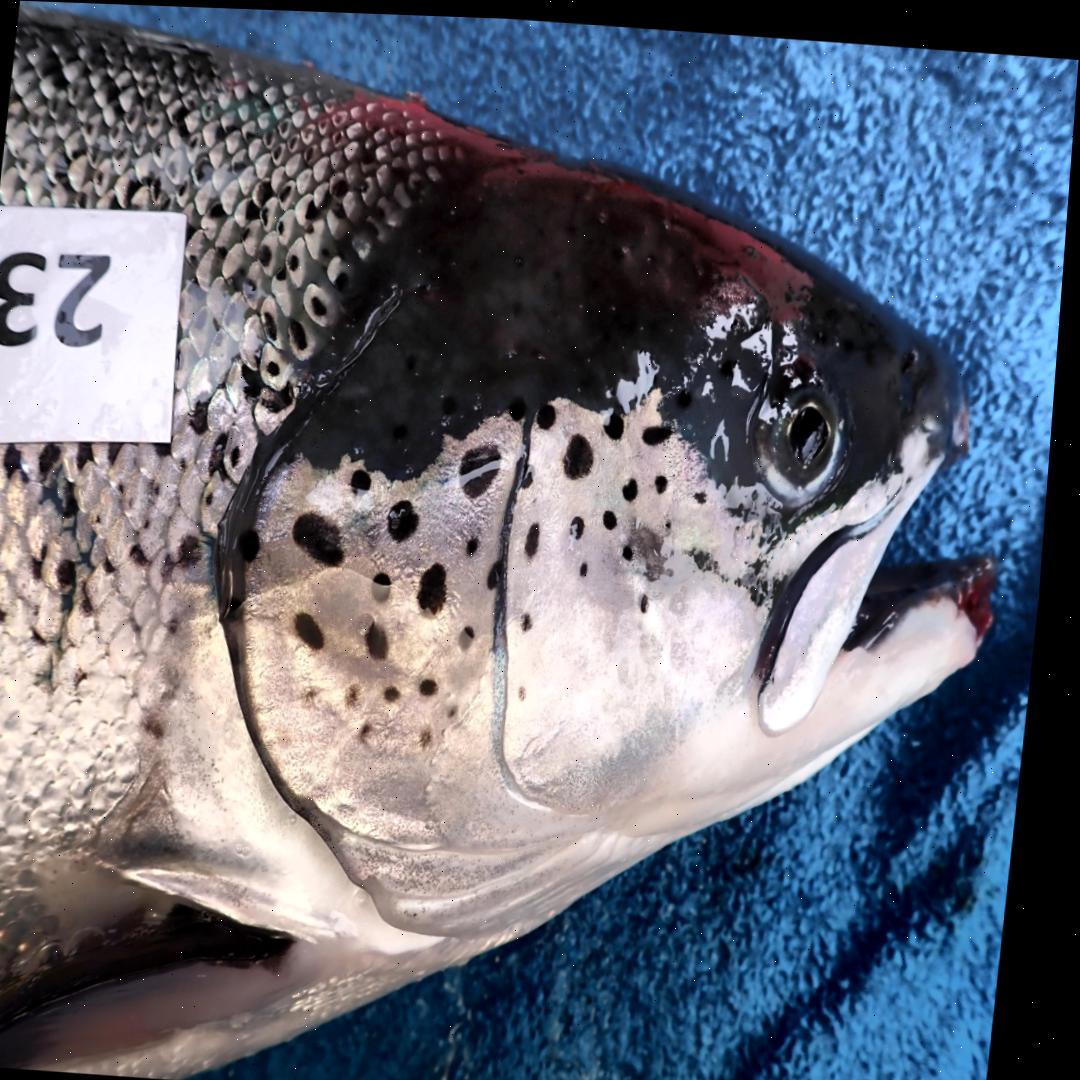spot: (299, 509, 352, 564), (464, 442, 507, 494), (424, 558, 455, 608), (568, 428, 599, 474), (394, 495, 425, 539), (302, 608, 333, 647), (373, 619, 396, 654), (246, 526, 268, 558), (305, 679, 331, 705), (647, 418, 678, 439), (379, 567, 399, 599), (356, 463, 378, 490), (531, 518, 547, 553), (610, 406, 629, 433), (541, 399, 561, 423), (493, 556, 508, 585), (513, 393, 531, 416), (466, 622, 482, 645), (629, 472, 644, 495), (354, 681, 368, 705), (608, 502, 624, 523), (577, 509, 591, 533), (429, 674, 447, 692), (393, 681, 409, 699), (428, 724, 442, 744), (473, 532, 486, 552), (660, 468, 674, 486), (527, 462, 539, 483), (370, 719, 382, 738), (529, 608, 540, 626), (629, 538, 640, 554), (525, 680, 536, 695), (647, 589, 656, 607), (700, 485, 713, 497), (586, 556, 595, 571), (457, 703, 466, 711), (672, 514, 678, 524), (518, 683, 521, 694)
